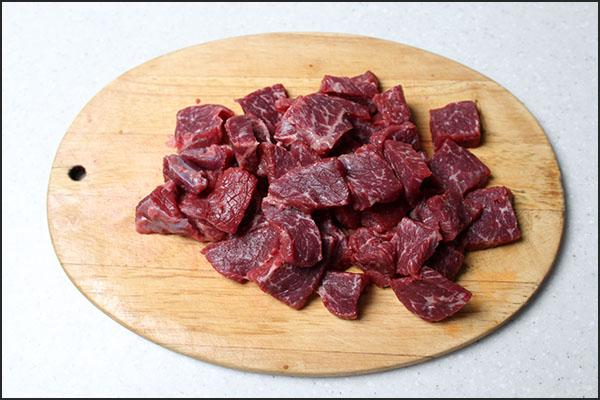beef: (185, 65, 387, 156)
